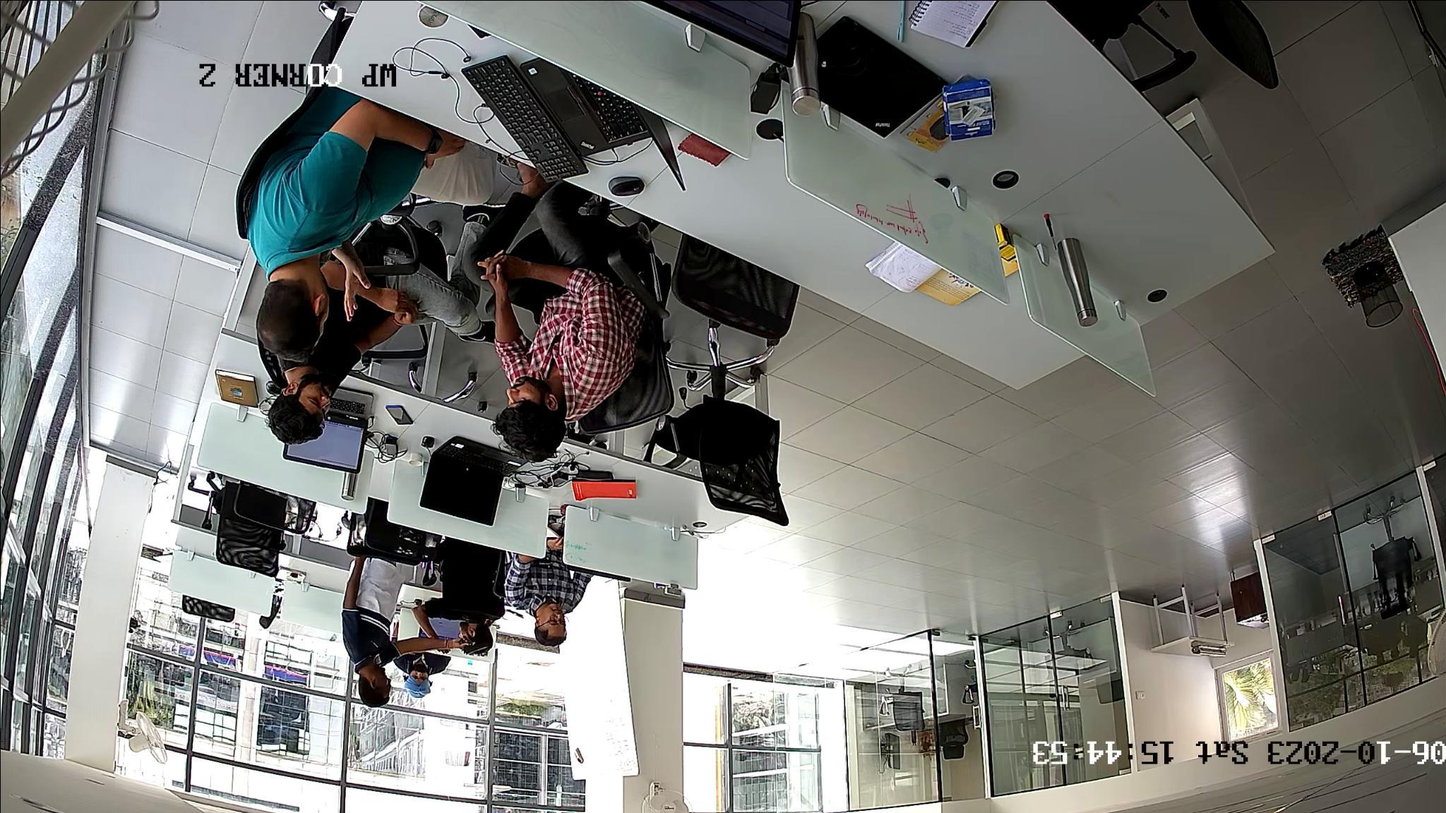gun: (458, 637, 488, 653)
